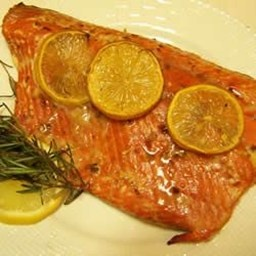background: (0, 0, 102, 98)
